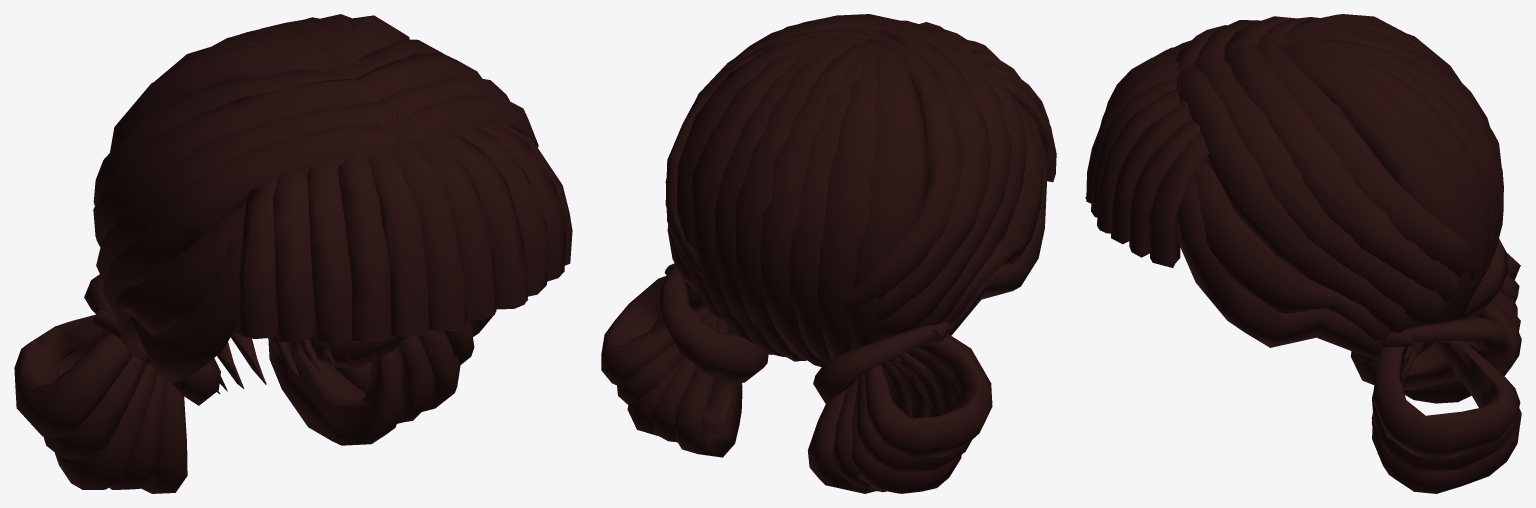
The model's file is hair-3-b047b8a4.glb.
3 renders of one model, left to right at view 1: azimuth 30°, elevation 25°; view 2: azimuth 150°, elevation 25°; view 3: azimuth 270°, elevation 25°, orthographic. The views are drawn at different scales.
Parts seen in each view (by area): view 1: hair_3.001; view 2: hair_3.001; view 3: hair_3.001.
Boxes of the visible parts, bbox=[...] form: hair_3.001: bbox=[14, 14, 572, 493]; hair_3.001: bbox=[601, 14, 1056, 493]; hair_3.001: bbox=[1085, 14, 1521, 493].
Size of the model in its own units: 2.08 by 2.06 by 2.03.
